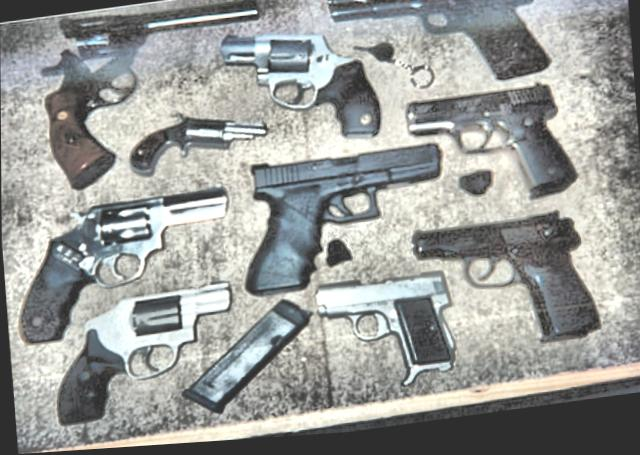pistol: (23, 0, 269, 195), (8, 189, 238, 346), (233, 144, 450, 298), (408, 212, 599, 363), (45, 282, 239, 425), (323, 0, 553, 107), (405, 83, 577, 220), (218, 17, 382, 158), (310, 271, 456, 397), (123, 102, 270, 180)
